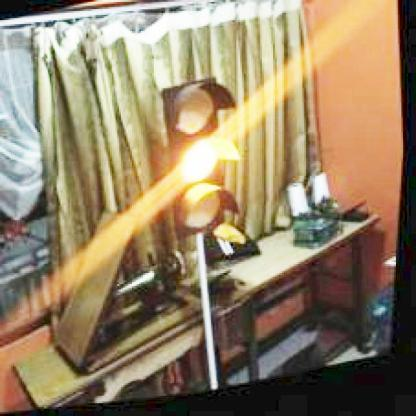Traffic Light -Yellow-: (156, 76, 251, 246)
